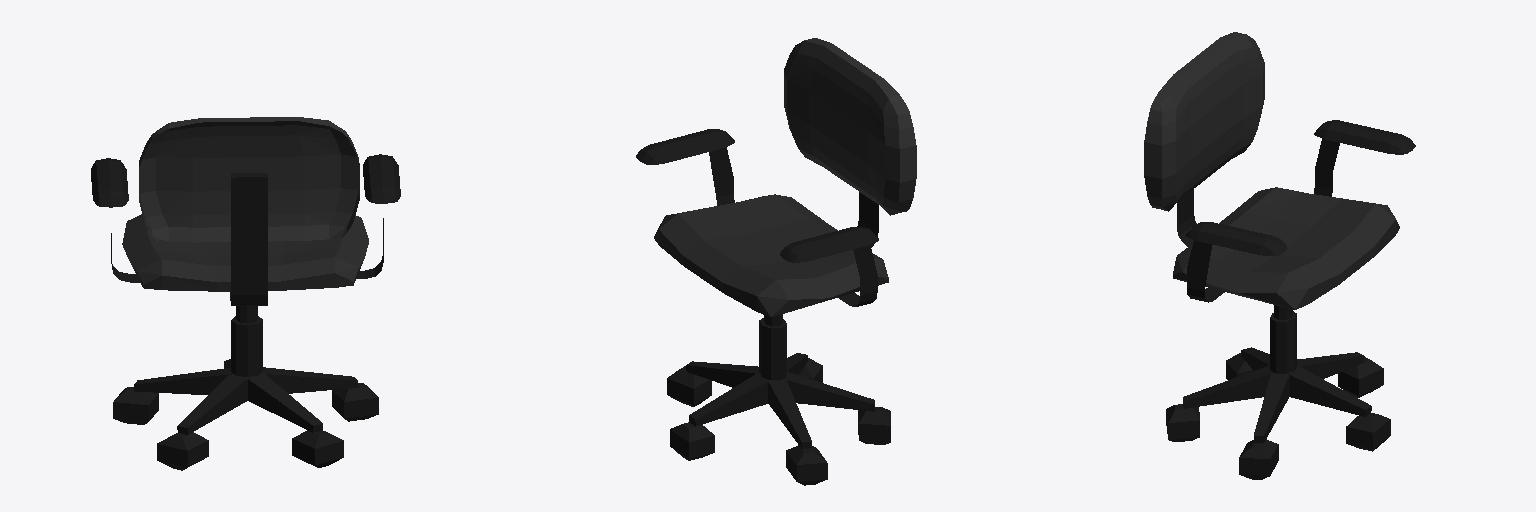
Rendered from chair.obj.
The picture shows the model from 3 angles: view 1: azimuth 30°, elevation 25°; view 2: azimuth 150°, elevation 25°; view 3: azimuth 270°, elevation 25°; orthographic projection.
Parts seen in each view (by area): view 1: Mesh6 chair_half2_1 Group1 Model, Mesh9 chair_half2_2 Group1 Model, Mesh5 chair_half1_1 Group1 Model, Mesh11 chair_half1_2 Group1 Model, Mesh15 Group1 Model, Mesh10 chair_wheel3 Group1 Model, Mesh2 chair_wheel2 Group1 Model, Mesh12 chair_wheel4 Group1 Model, Mesh13 chair_wheel5 Group1 Model, Mesh14 Group1 Model, Mesh4 chair_arm1 Group1 Model, Mesh8 chair_arm2 Group1 Model; view 2: Mesh9 chair_half2_2 Group1 Model, Mesh5 chair_half1_1 Group1 Model, Mesh11 chair_half1_2 Group1 Model, Mesh6 chair_half2_1 Group1 Model, Mesh1 chair_wheel1 Group1 Model, Mesh2 chair_wheel2 Group1 Model, Mesh12 chair_wheel4 Group1 Model, Mesh13 chair_wheel5 Group1 Model, Mesh8 chair_arm2 Group1 Model, Mesh4 chair_arm1 Group1 Model, Mesh14 Group1 Model, Mesh7 chair_arm2 Group1 Model (+3 smaller); view 3: Mesh6 chair_half2_1 Group1 Model, Mesh5 chair_half1_1 Group1 Model, Mesh11 chair_half1_2 Group1 Model, Mesh9 chair_half2_2 Group1 Model, Mesh1 chair_wheel1 Group1 Model, Mesh10 chair_wheel3 Group1 Model, Mesh13 chair_wheel5 Group1 Model, Mesh12 chair_wheel4 Group1 Model, Mesh8 chair_arm2 Group1 Model, Mesh4 chair_arm1 Group1 Model, Mesh14 Group1 Model, Mesh3 chair_arm1 Group1 Model (+3 smaller).
Boxes of the visible parts, <box> form: Mesh6 chair_half2_1 Group1 Model: <box>249,117,359,241</box>; Mesh9 chair_half2_2 Group1 Model: <box>139,118,248,242</box>; Mesh5 chair_half1_1 Group1 Model: <box>122,214,230,291</box>; Mesh11 chair_half1_2 Group1 Model: <box>268,215,368,290</box>; Mesh15 Group1 Model: <box>230,173,267,305</box>; Mesh10 chair_wheel3 Group1 Model: <box>246,373,343,467</box>; Mesh2 chair_wheel2 Group1 Model: <box>157,373,248,470</box>; Mesh12 chair_wheel4 Group1 Model: <box>113,368,232,424</box>; Mesh13 chair_wheel5 Group1 Model: <box>262,367,378,421</box>; Mesh14 Group1 Model: <box>231,306,262,376</box>; Mesh4 chair_arm1 Group1 Model: <box>363,154,400,203</box>; Mesh8 chair_arm2 Group1 Model: <box>91,158,128,207</box>; Mesh9 chair_half2_2 Group1 Model: <box>839,61,916,215</box>; Mesh5 chair_half1_1 Group1 Model: <box>703,230,888,316</box>; Mesh11 chair_half1_2 Group1 Model: <box>654,194,837,279</box>; Mesh6 chair_half2_1 Group1 Model: <box>784,38,856,185</box>; Mesh1 chair_wheel1 Group1 Model: <box>670,373,769,460</box>; Mesh2 chair_wheel2 Group1 Model: <box>784,372,890,444</box>; Mesh12 chair_wheel4 Group1 Model: <box>768,379,827,485</box>; Mesh13 chair_wheel5 Group1 Model: <box>667,361,758,406</box>; Mesh8 chair_arm2 Group1 Model: <box>780,227,878,262</box>; Mesh4 chair_arm1 Group1 Model: <box>636,129,734,164</box>; Mesh14 Group1 Model: <box>759,314,786,379</box>; Mesh7 chair_arm2 Group1 Model: <box>838,245,877,306</box>; Mesh6 chair_half2_1 Group1 Model: <box>1144,56,1215,211</box>; Mesh5 chair_half1_1 Group1 Model: <box>1219,187,1399,269</box>; Mesh11 chair_half1_2 Group1 Model: <box>1173,224,1356,309</box>; Mesh9 chair_half2_2 Group1 Model: <box>1197,32,1264,180</box>; Mesh1 chair_wheel1 Group1 Model: <box>1288,366,1390,451</box>; Mesh10 chair_wheel3 Group1 Model: <box>1166,365,1272,441</box>; Mesh13 chair_wheel5 Group1 Model: <box>1239,373,1289,479</box>; Mesh12 chair_wheel4 Group1 Model: <box>1297,352,1383,397</box>; Mesh8 chair_arm2 Group1 Model: <box>1314,120,1415,154</box>; Mesh4 chair_arm1 Group1 Model: <box>1186,222,1286,255</box>; Mesh14 Group1 Model: <box>1270,305,1296,373</box>; Mesh3 chair_arm1 Group1 Model: <box>1187,240,1224,302</box>.
Size of the model in its own units: 25.13 by 31.46 by 21.95.